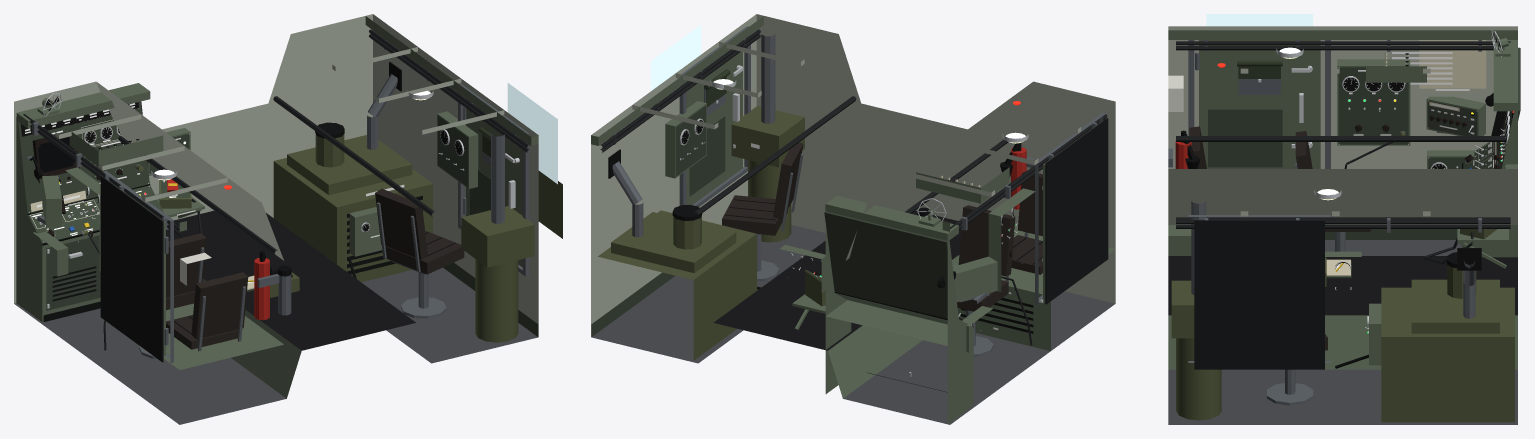
Rendered from tel_cabin.glb.
The picture shows the model from 3 angles, left to right: view 1: azimuth 30°, elevation 25°; view 2: azimuth 150°, elevation 25°; view 3: azimuth 270°, elevation 25°; orthographic projection. The views are drawn at different scales.
Parts seen in each view (by area): view 1: static, exit_door, screen_tel; view 2: static, exit_door; view 3: static, exit_door.
Part boxes in pixels (box(x1,y1,x2,y2)): static: box(14, 14, 562, 424); exit_door: box(100, 176, 168, 362); screen_tel: box(38, 137, 74, 172); static: box(591, 14, 1115, 424); exit_door: box(1042, 118, 1108, 304); static: box(1168, 14, 1520, 424); exit_door: box(1195, 40, 1320, 168).
Size of the model in its own units: 3.5 by 1.62 by 2.32.
